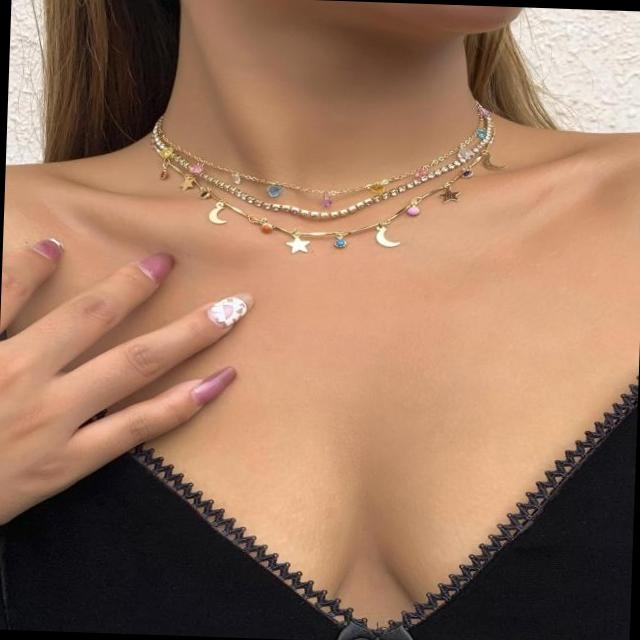Nail: (190, 368, 234, 406), (209, 293, 252, 328), (138, 255, 171, 284), (33, 239, 61, 260)
